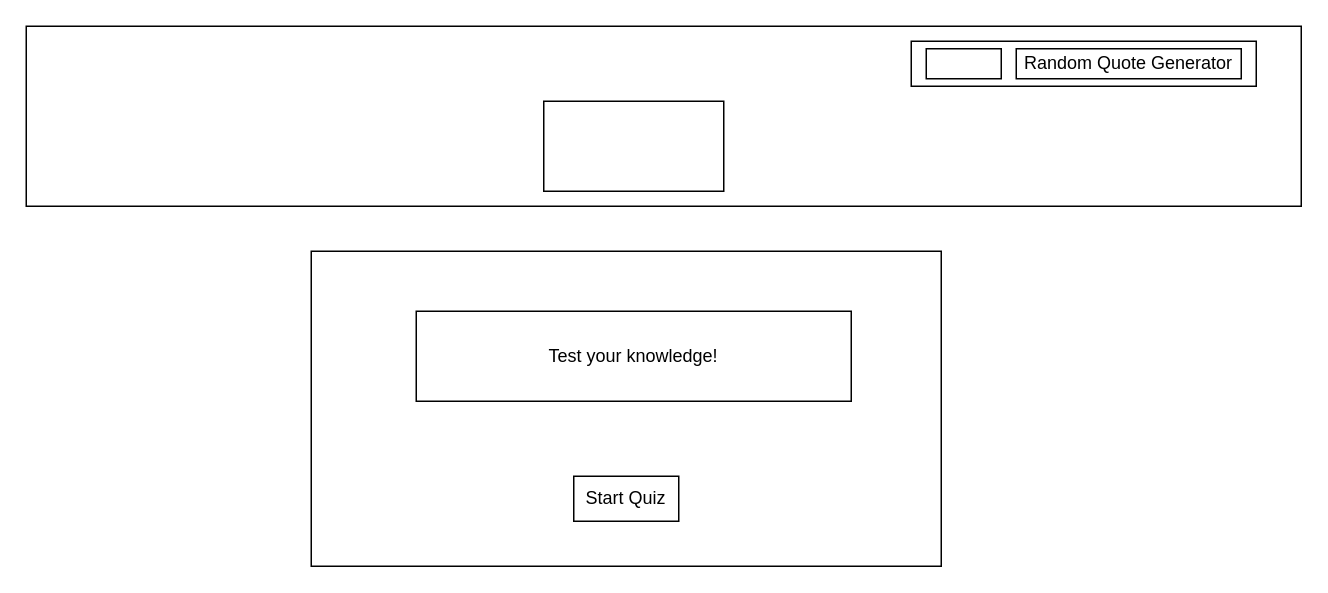
Some shapes in this 1328 by 593 pixel diagram are drawn without their labels. Each missing label, with the centre of its shape:
"Home" goes at pixel 963 63.
"Quote Me, Senpai" goes at pixel 633 145.
